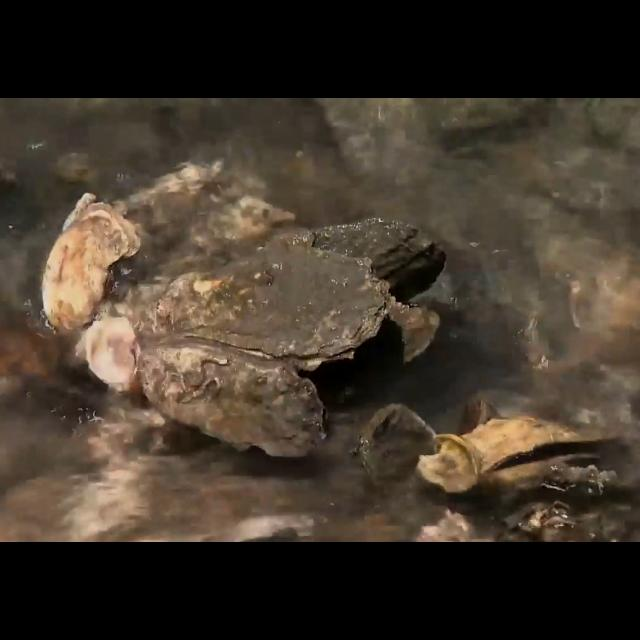Oyster-Closed: (154, 244, 396, 370), (139, 343, 329, 461), (40, 191, 140, 321), (294, 217, 448, 291), (357, 402, 438, 514), (84, 316, 142, 392)
Oyster-Open: (418, 410, 622, 492)
